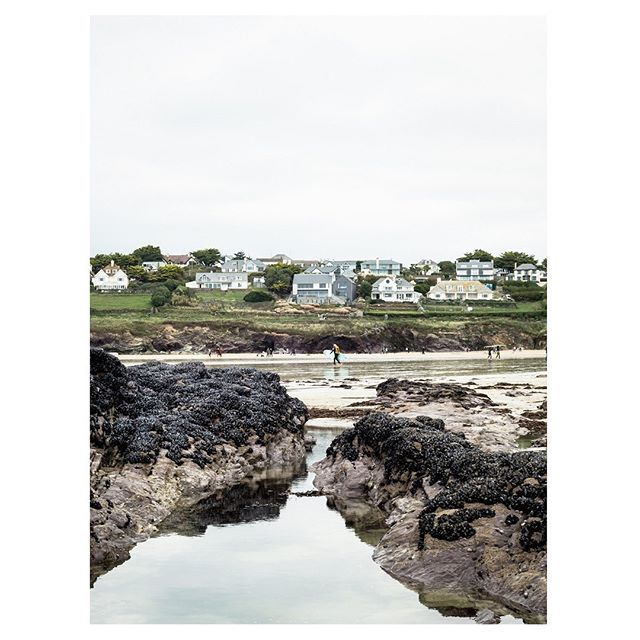building: (199, 244, 262, 294), (283, 271, 357, 310), (355, 268, 429, 307), (425, 268, 499, 307)
rocks: (83, 344, 317, 580), (325, 365, 559, 601)
sky: (90, 15, 549, 250)
